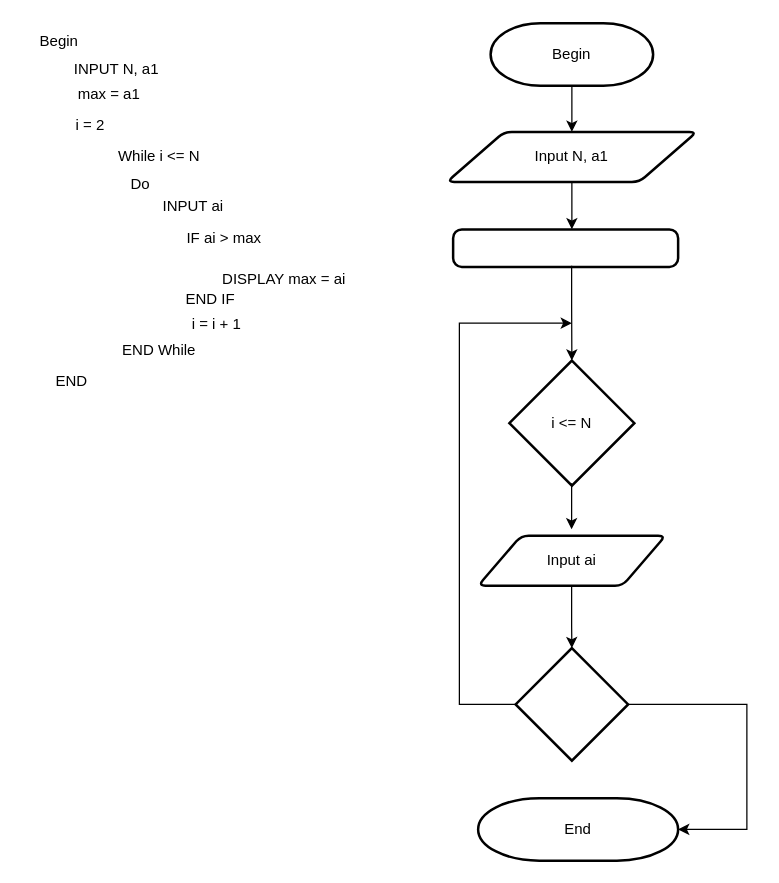
This 779x883 diagram has some shape labels left out. Here are the shapes that lost their labels. From the top down, the centre of each, then its label:
At (565,248): "max = a1, i = 2".
At (571,703): "ai > max".
